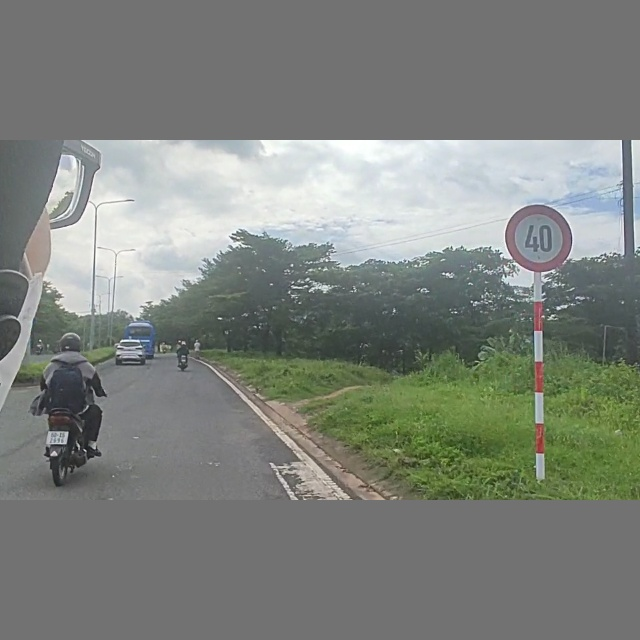P.127*40: (504, 202, 578, 274)
